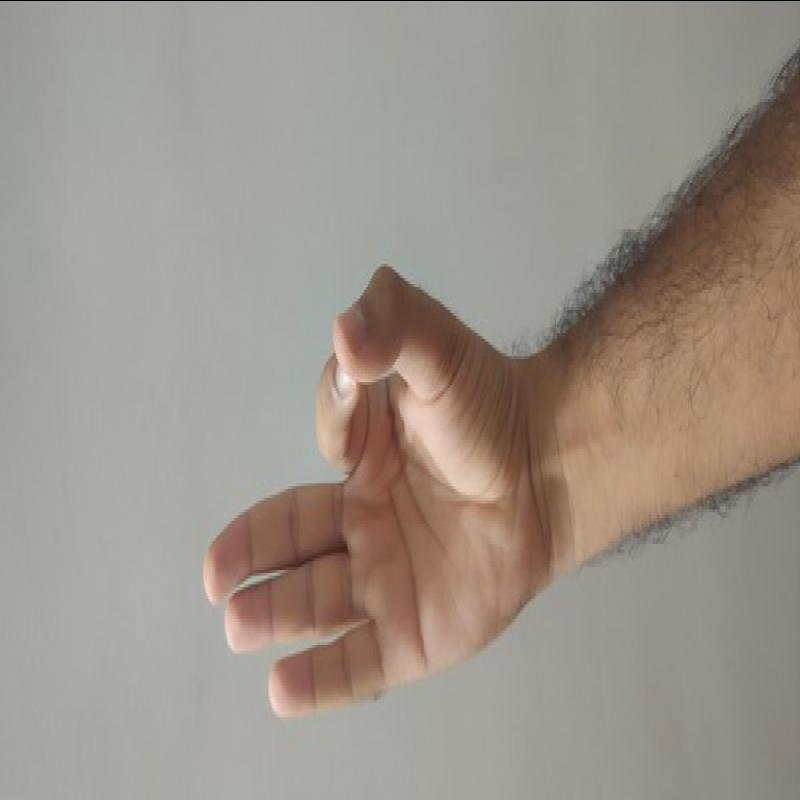Mudraakhyam: (188, 251, 541, 733)
